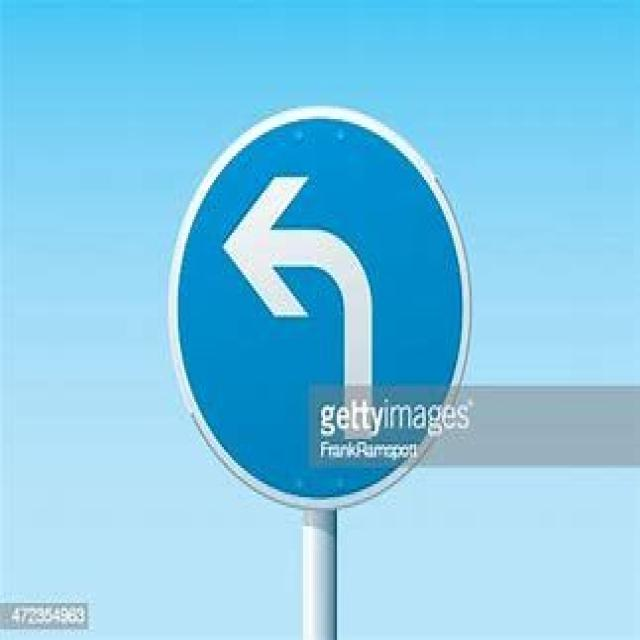COMPULSARY_TURN_LEFT_AHEAD: (166, 98, 472, 503)
